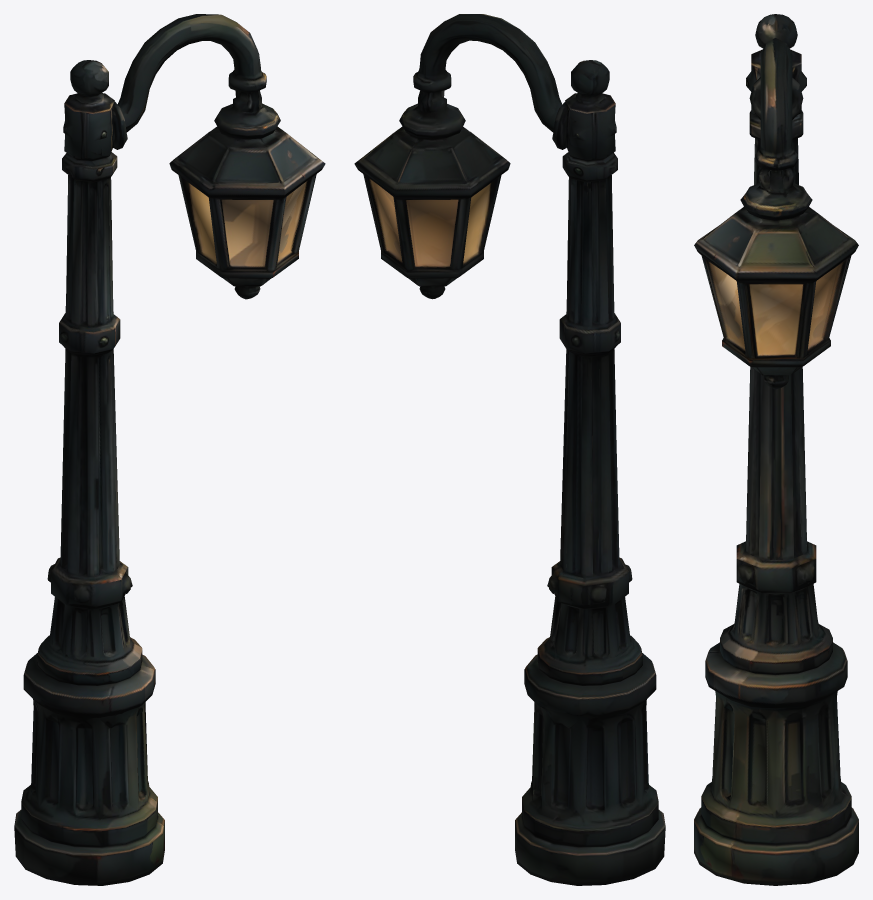
Rendered from lamp.glb.
3 views of the same model, side by side, from view 1: azimuth 30°, elevation 25°; view 2: azimuth 150°, elevation 25°; view 3: azimuth 270°, elevation 25° (orthographic). The views are drawn at different scales.
Visible parts, largest first — view 1: tripo_node_19f642db-26d2-41c5-93f7-875f7080d663; view 2: tripo_node_19f642db-26d2-41c5-93f7-875f7080d663; view 3: tripo_node_19f642db-26d2-41c5-93f7-875f7080d663.
Boxes of the visible parts, <box> form: tripo_node_19f642db-26d2-41c5-93f7-875f7080d663: <box>14,14,325,885</box>; tripo_node_19f642db-26d2-41c5-93f7-875f7080d663: <box>354,14,665,885</box>; tripo_node_19f642db-26d2-41c5-93f7-875f7080d663: <box>694,14,858,885</box>.
Size of the model in its own units: 0.3613 by 0.998 by 0.1738.
1 material, 1 textured.
